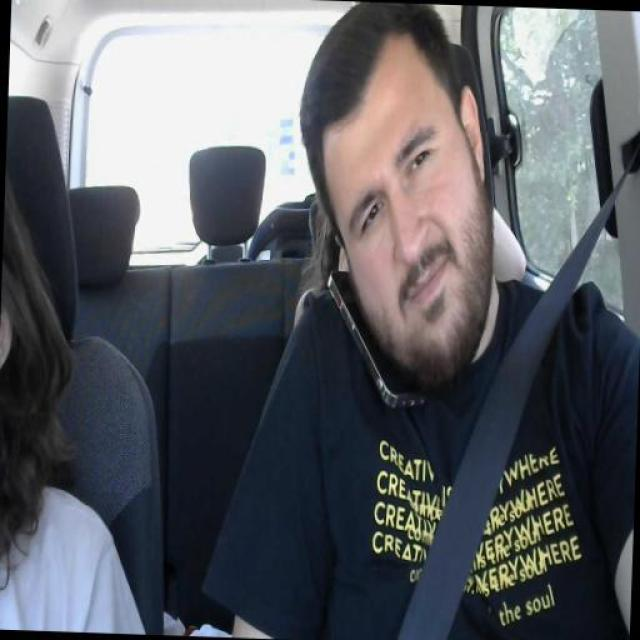phone: (327, 267, 421, 406)
